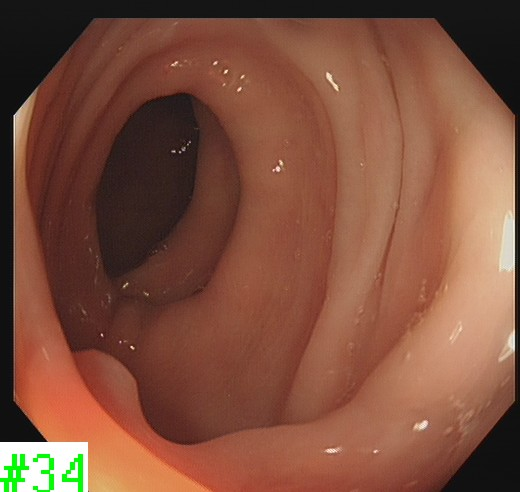adenoma: (69, 349, 144, 414)
